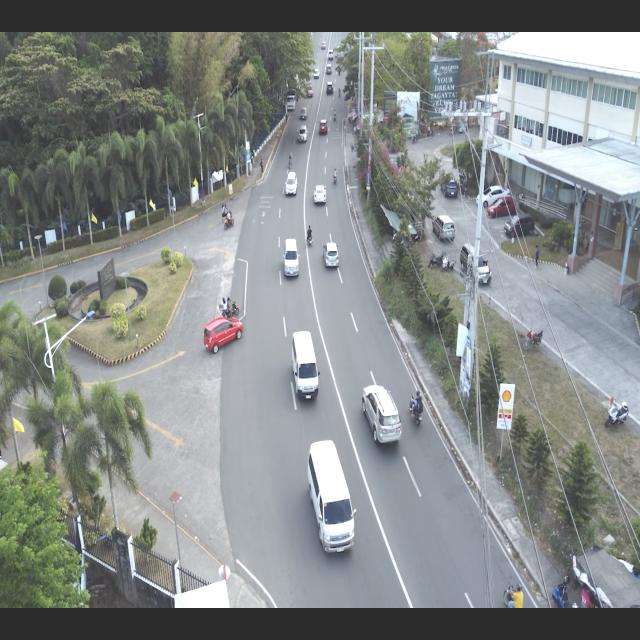car: (305, 438, 358, 556), (361, 382, 403, 447), (291, 330, 321, 403), (204, 315, 244, 355), (459, 241, 493, 287), (503, 213, 536, 240), (475, 184, 511, 208), (432, 213, 456, 244), (282, 238, 300, 278), (486, 196, 517, 218), (322, 242, 340, 268), (284, 171, 298, 197), (312, 184, 326, 204), (298, 124, 308, 143), (318, 119, 328, 134), (326, 81, 334, 95), (306, 83, 313, 98), (300, 108, 308, 120), (326, 64, 333, 74), (328, 48, 333, 62), (314, 68, 320, 78), (321, 40, 326, 50)
motorcycle: (604, 399, 630, 428), (501, 581, 525, 610), (409, 390, 425, 428), (218, 295, 240, 322), (522, 327, 544, 351), (428, 249, 447, 270), (441, 254, 457, 273), (223, 210, 234, 230), (306, 224, 314, 246), (332, 167, 338, 184), (288, 151, 292, 170), (333, 109, 337, 120), (338, 88, 341, 97)
person: (535, 244, 540, 270), (224, 203, 229, 220), (220, 204, 225, 220), (260, 158, 264, 174)
truck: (285, 86, 297, 112)
